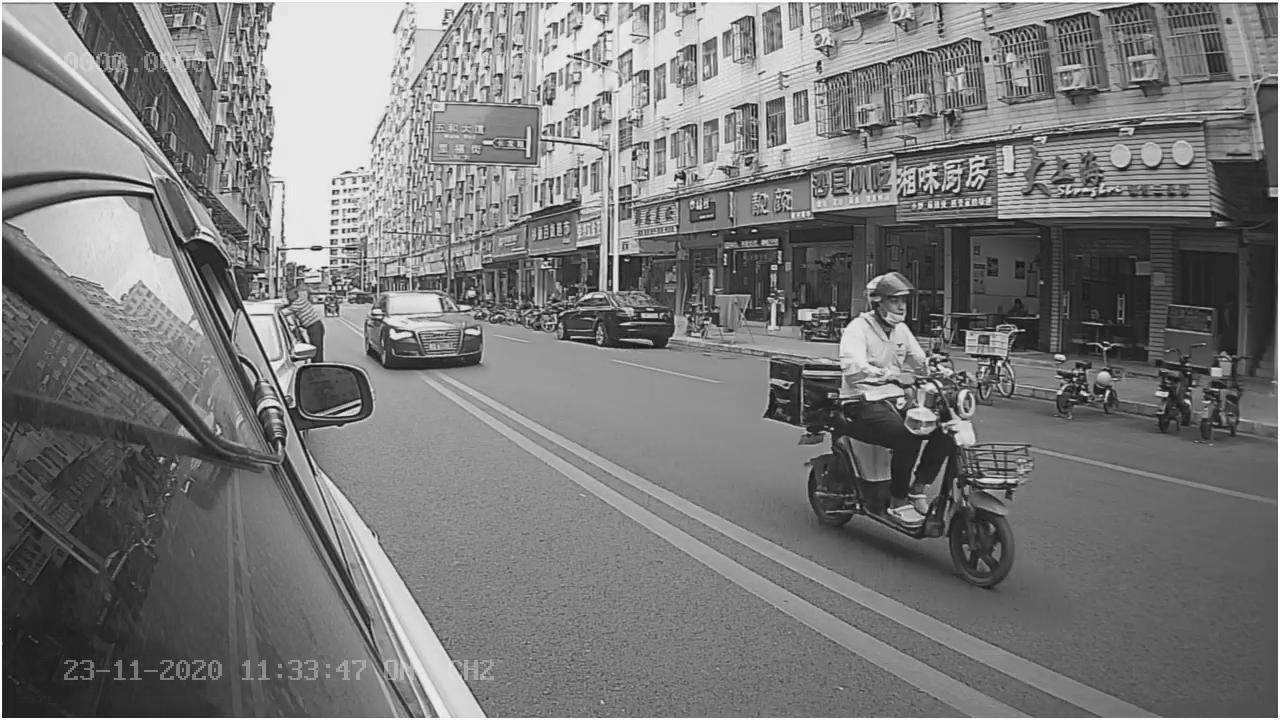person: (841, 270, 938, 386)
